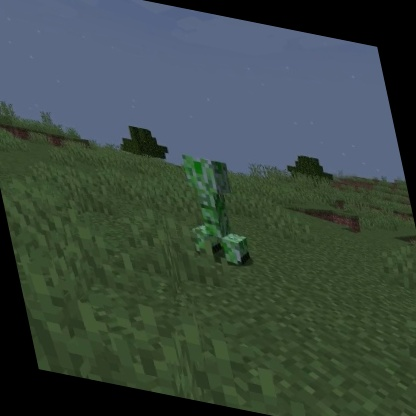creeper: (172, 150, 256, 273)
